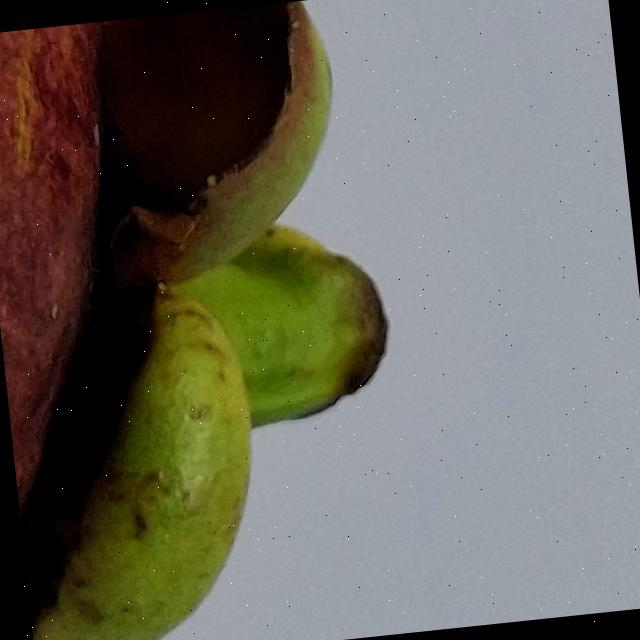mangosteen: (0, 0, 438, 640)
